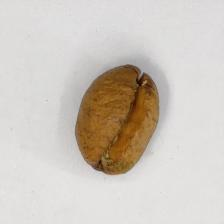NG: (95, 79, 152, 173)
